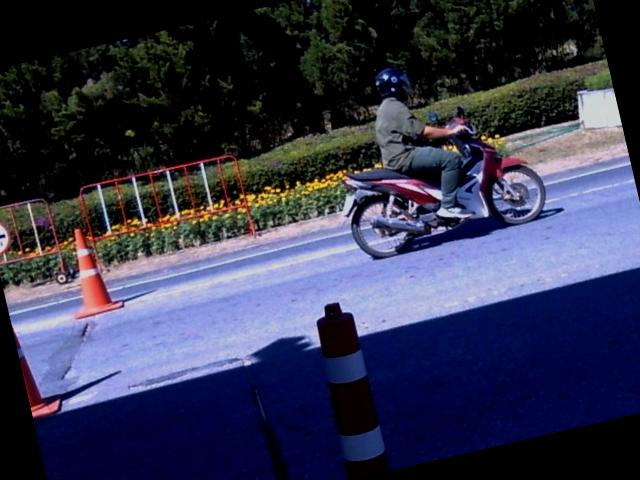helmet: (374, 67, 412, 99)
motor: (341, 105, 544, 257)
person: (374, 67, 471, 218)
